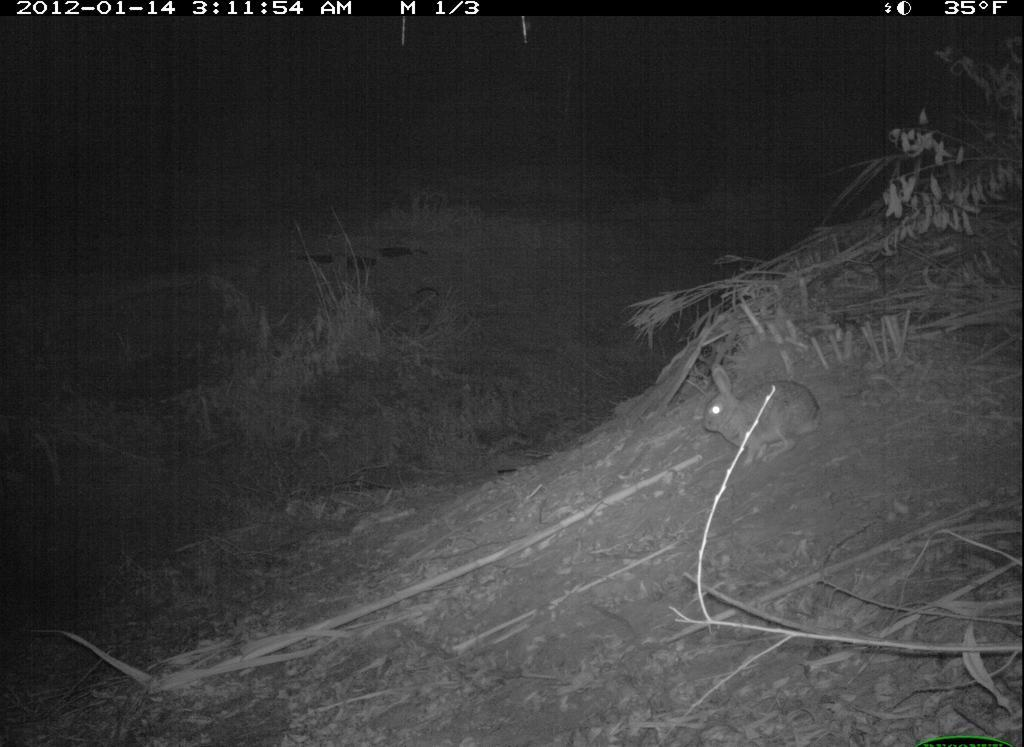rabbit: (697, 350, 831, 478)
